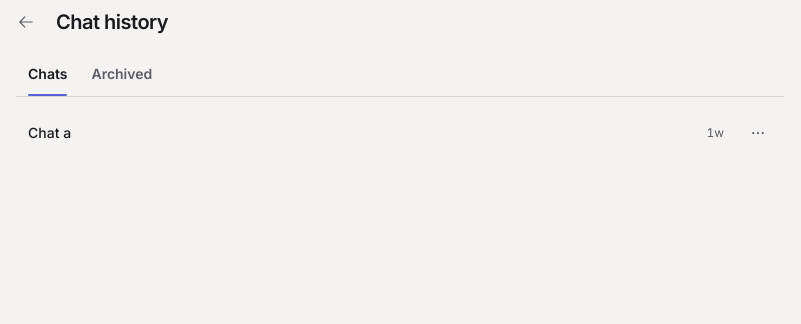
Test: opens a focused rename field from an accessible icon action
Click the button named "More actions for Chat a": {"x": 758, "y": 133} [736,111,780,155]
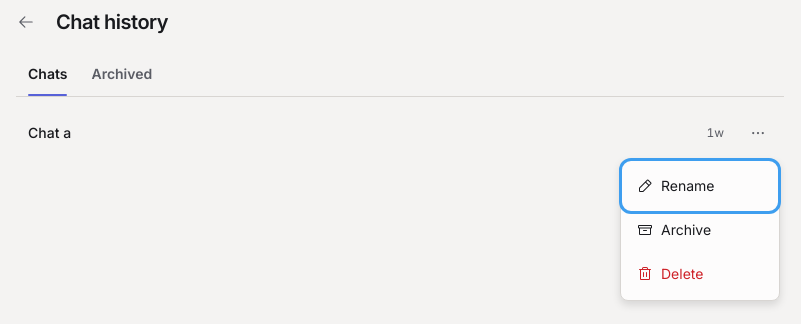
Click the menu item "Rename": {"x": 700, "y": 186} [625,164,775,208]
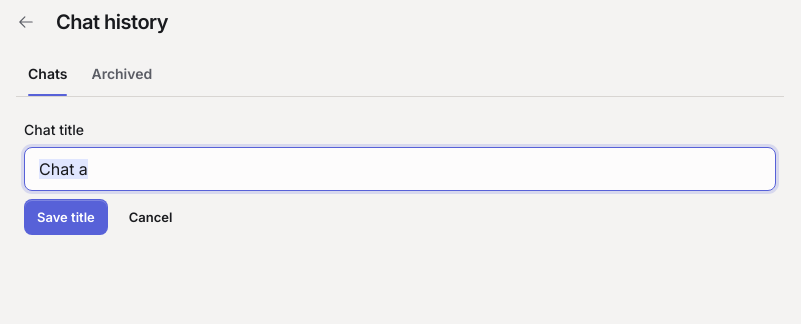
Check: the field labelled "Chat title" holds "Chat a"
Press Escape in the field labelled "Chat title", box [24,147,776,191]
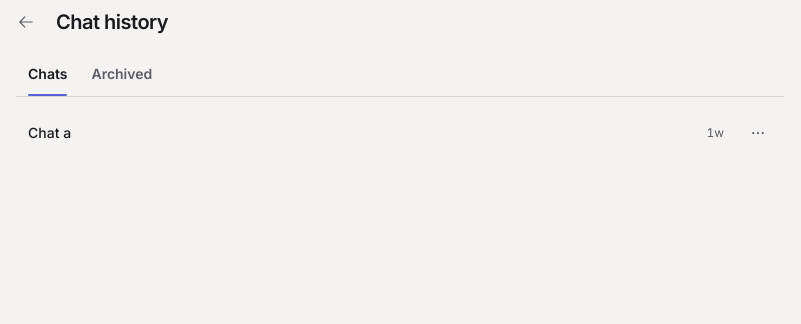
Check: the label "Chat title" is gone
